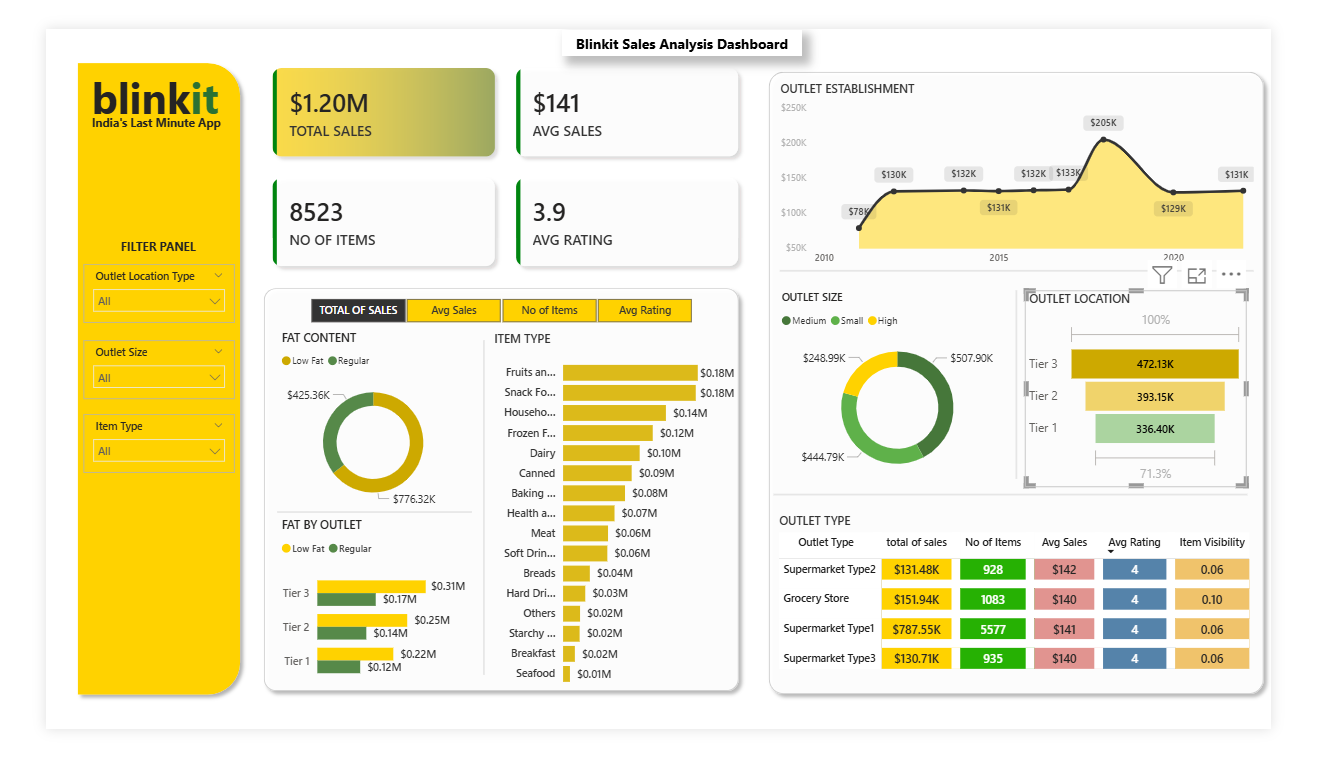

Layout of this report page (visuals, bound fields, positions):
{"tool":"powerbi","page":{"name":"Page 1","canvas":[1400,800],"ordinal":0},"visuals":[{"type":"shape","box":[26.8,29.5,203.8,740],"z":0},{"type":"textbox","box":[46.9,40.2,163.5,80.4],"z":1000},{"type":"textbox","box":[46.9,92.5,166.2,28.2],"z":2000},{"type":"cardVisual","fields":{"Data":["BlinkIT Grocery Data.total of sales","BlinkIT Grocery Data.Avg Sales","BlinkIT Grocery Data.No of Items","BlinkIT Grocery Data.Avg Rating"]},"box":[230.5,16.2,591.6,285.7],"z":3000},{"type":"shape","box":[239.9,287.1,560.6,478.4],"z":4000},{"type":"donutChart","title":"FAT CONTENT","fields":{"Y":["BlinkIT Grocery Data.total of sales"],"Category":["BlinkIT Grocery Data.Item Fat Content"]},"box":[264.2,342.3,219.7,214.3],"z":5000},{"type":"slicer","fields":{"Values":["Metrics.Metrics"]},"box":[277.6,301.9,485.2,40.4],"z":6000},{"type":"clusteredBarChart","title":"FAT BY OUTLET","fields":{"Y":["BlinkIT Grocery Data.total of sales"],"Category":["BlinkIT Grocery Data.Outlet Location Type"],"Series":["BlinkIT Grocery Data.Item Fat Content"]},"box":[264.2,556.6,219.7,200.8],"z":7000},{"type":"shape","box":[264.2,527,222.4,49.9],"z":8000},{"type":"shape","box":[483.8,355.8,32.3,382.8],"z":9000},{"type":"barChart","title":"ITEM TYPE","fields":{"Y":["BlinkIT Grocery Data.total of sales"],"Category":["BlinkIT Grocery Data.Item Type"]},"box":[506.7,343.7,284.4,416.4],"z":10000},{"type":"shape","box":[816.7,40.4,583.6,729.1],"z":11000},{"type":"lineChart","title":"OUTLET  ESTABLISHMENT","fields":{"Y":["BlinkIT Grocery Data.total of sales"],"Category":["BlinkIT Grocery Data.Outlet Establishment Year"]},"box":[834.2,58,551.2,219.7],"z":12000},{"type":"shape","box":[838.3,252,541.8,49.9],"z":13000},{"type":"donutChart","title":"OUTLET SIZE","fields":{"Y":["BlinkIT Grocery Data.total of sales"],"Category":["BlinkIT Grocery Data.Outlet Size"]},"box":[835.6,299.2,274.9,225.1],"z":14000},{"type":"shape","box":[1093,299.2,32.3,215.6],"z":15000},{"type":"funnel","title":" OUTLET LOCATION","fields":{"Y":["Sum(BlinkIT Grocery Data.Sales)"],"Category":["BlinkIT Grocery Data.Outlet Location Type"]},"box":[1118.6,299.2,254.7,225.1],"z":16000},{"type":"shape","box":[831.5,506.7,541.8,49.9],"z":17000},{"type":"pivotTable","title":"OUTLET TYPE","fields":{"Rows":["BlinkIT Grocery Data.Outlet Type"],"Values":["BlinkIT Grocery Data.total of sales","BlinkIT Grocery Data.No of Items","BlinkIT Grocery Data.Avg Sales","BlinkIT Grocery Data.Avg Rating","Avg(BlinkIT Grocery Data.Item Visibility)"]},"box":[832.9,552.6,553.9,186],"z":18000},{"type":"slicer","fields":{"Values":["BlinkIT Grocery Data.Outlet Location Type"]},"box":[43.1,268.2,172.5,67.4],"z":19000},{"type":"slicer","fields":{"Values":["BlinkIT Grocery Data.Outlet Size"]},"box":[43.1,355.8,172.5,67.4],"z":20000},{"type":"slicer","fields":{"Values":["BlinkIT Grocery Data.Item Type"]},"box":[43.1,439.4,172.5,67.4],"z":21000},{"type":"textbox","box":[75.5,234.5,105.1,35],"z":22000},{"type":"shape","box":[590.3,1.3,273.6,29.6],"z":23000}]}

Visuals, with their boxes in screenshot pixels (x1, y1, x2, y2), scaled from the page's 1400x800 canvas onto the 1321x766 screenshot:
shape: [25, 28, 218, 737]
textbox: [44, 38, 199, 115]
textbox: [44, 89, 201, 116]
cardVisual - BlinkIT Grocery Data.total of sales x BlinkIT Grocery Data.Avg Sales: [217, 16, 776, 289]
shape: [226, 275, 755, 733]
"FAT CONTENT" donutChart: [249, 328, 457, 533]
slicer - Metrics.Metrics: [262, 289, 720, 328]
"FAT BY OUTLET" clusteredBarChart: [249, 533, 457, 725]
shape: [249, 505, 459, 552]
shape: [456, 341, 487, 707]
"ITEM TYPE" barChart: [478, 329, 746, 728]
shape: [771, 39, 1320, 737]
"OUTLET  ESTABLISHMENT" lineChart: [787, 56, 1307, 266]
shape: [791, 241, 1302, 289]
"OUTLET SIZE" donutChart: [788, 286, 1048, 502]
shape: [1031, 286, 1062, 493]
" OUTLET LOCATION" funnel: [1055, 286, 1296, 502]
shape: [785, 485, 1296, 533]
"OUTLET TYPE" pivotTable: [786, 529, 1309, 707]
slicer - BlinkIT Grocery Data.Outlet Location Type: [41, 257, 203, 321]
slicer - BlinkIT Grocery Data.Outlet Size: [41, 341, 203, 405]
slicer - BlinkIT Grocery Data.Item Type: [41, 421, 203, 485]
textbox: [71, 225, 170, 258]
shape: [557, 1, 815, 30]
